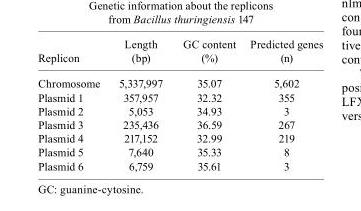table: (37, 37, 322, 171)
table column: (242, 37, 322, 171), (37, 37, 108, 171), (172, 37, 242, 171), (108, 37, 172, 171)
table column header: (37, 37, 322, 69)
table row: (37, 37, 322, 69), (37, 69, 322, 89), (37, 89, 322, 103), (37, 103, 322, 117), (37, 130, 322, 144), (37, 144, 322, 158), (37, 117, 322, 130), (37, 158, 322, 171)
